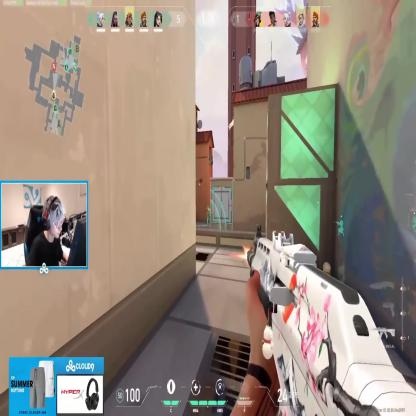enemy: (206, 207, 211, 226)
enemy_head: (207, 207, 209, 210)
